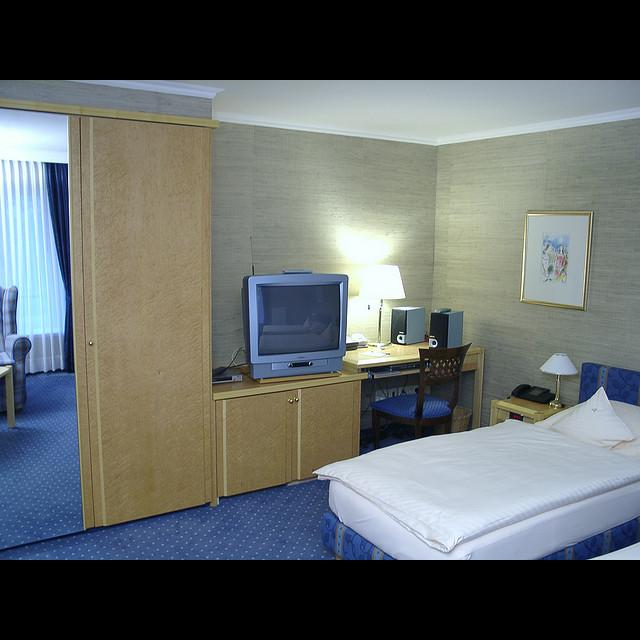TV-Remote-Control: (282, 270, 313, 273)
